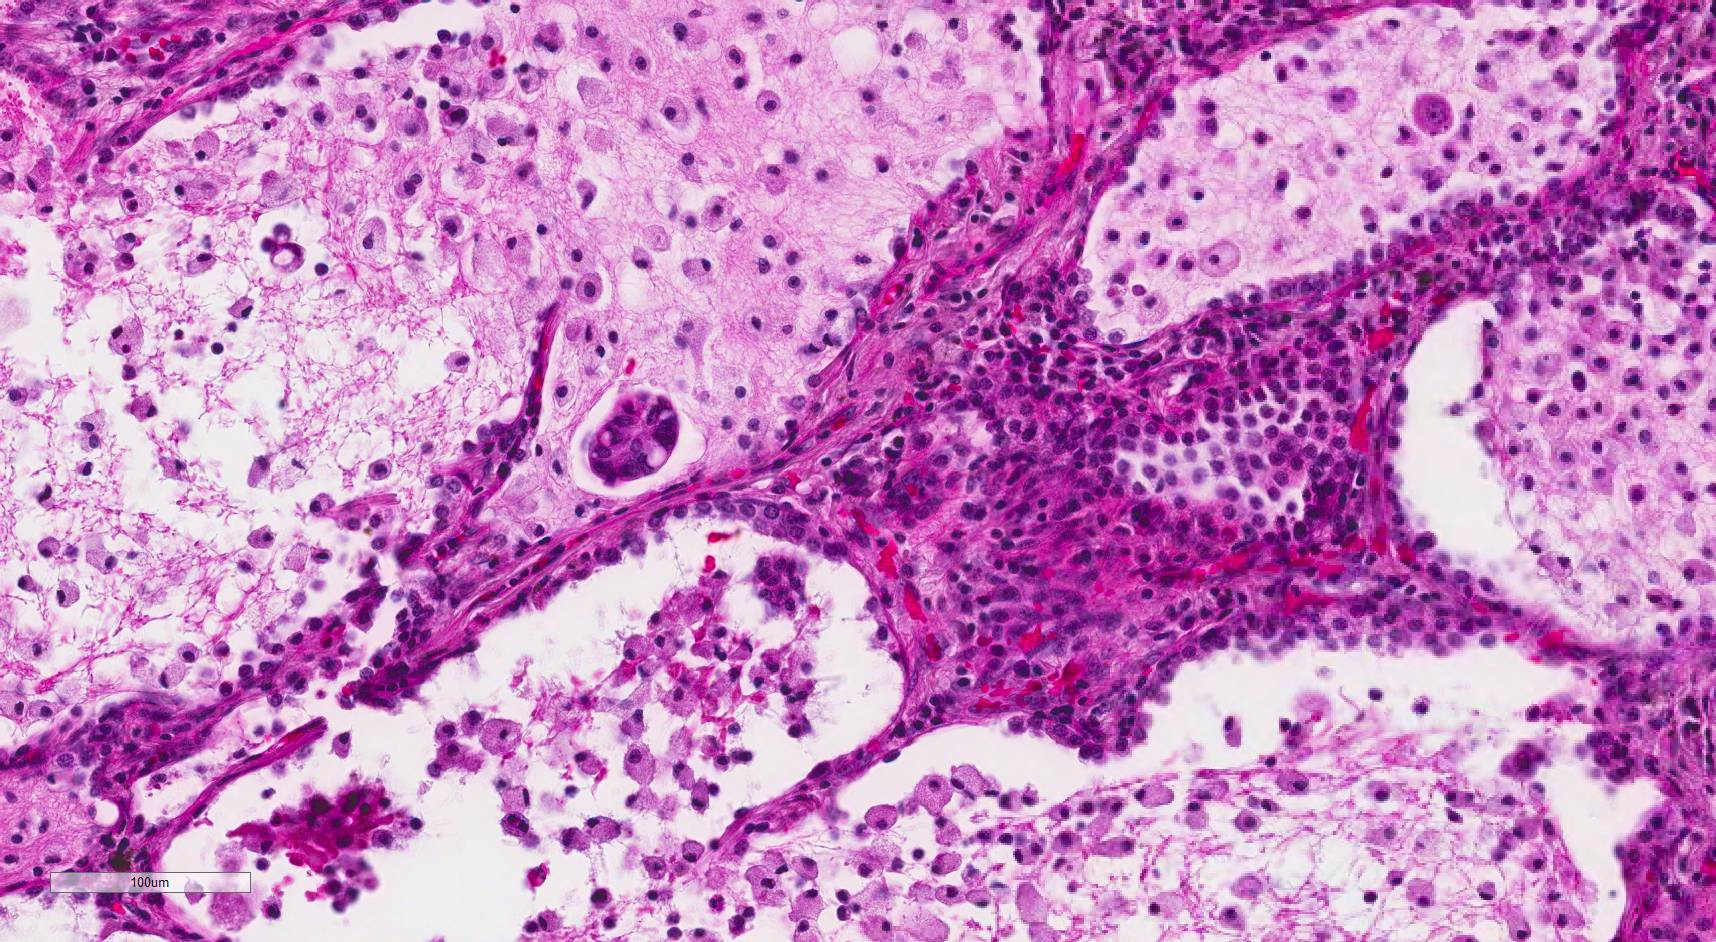stas: (587, 388, 679, 487)
